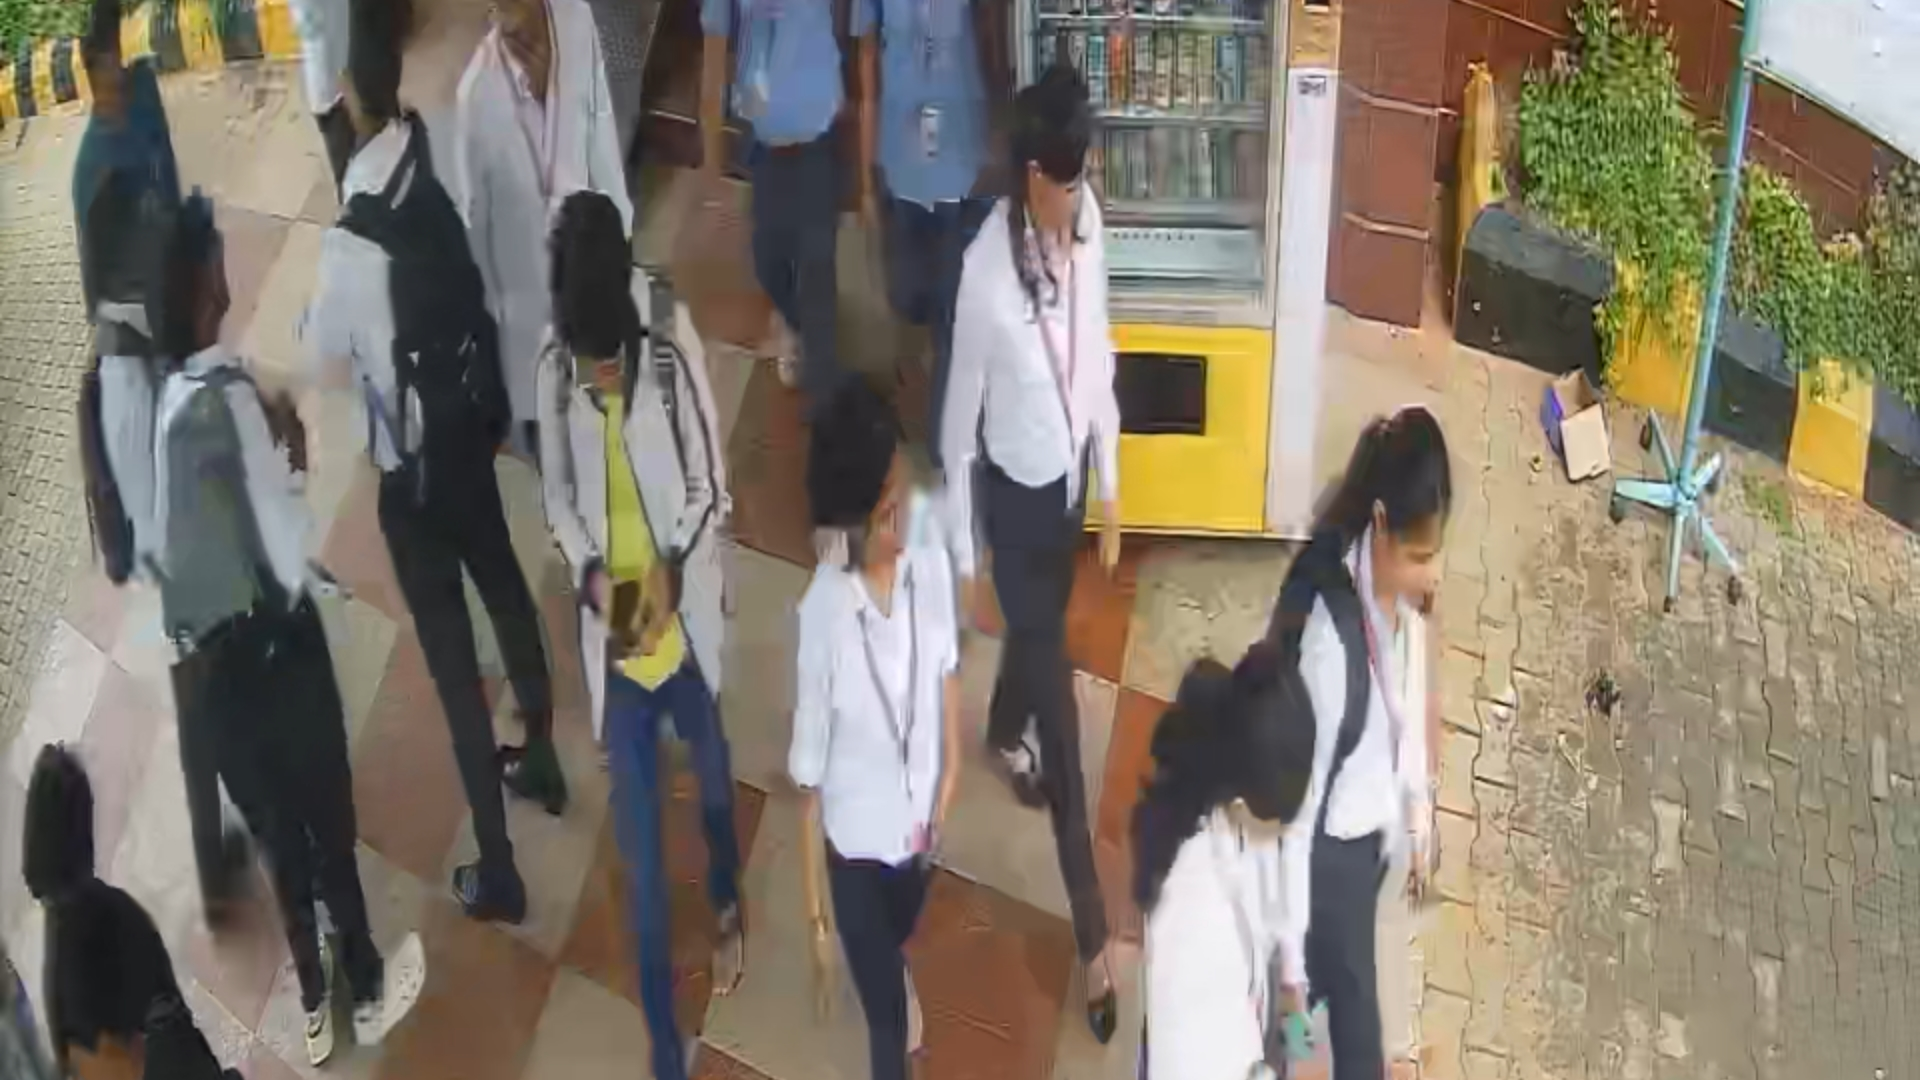intruder: (539, 193, 764, 1080)
not intruder: (944, 66, 1178, 1059), (794, 426, 1004, 1063), (1295, 392, 1456, 1080)
